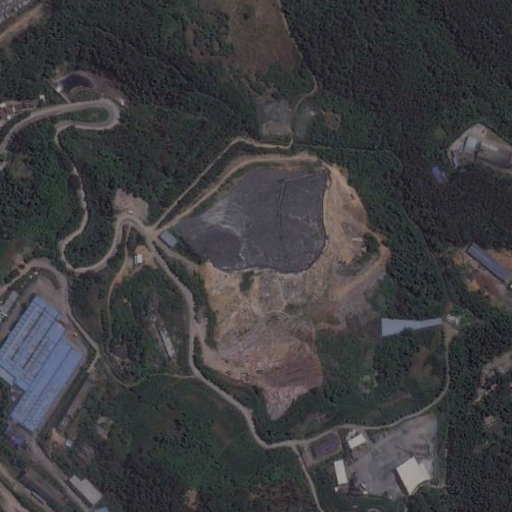lf: (164, 156, 329, 277)
